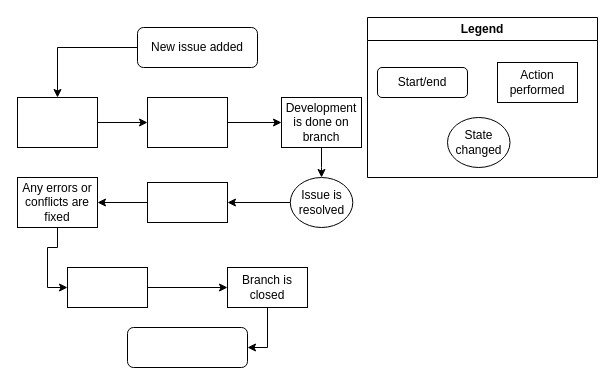
Some shapes in this 615 by 385 pixel diagram are drawn without their labels. The shapes that lost their labels are listed below. From the top down, each one's centre as x and y in pixels, then its label:
At point (57, 122): "Developer is assigned the issue".
At point (187, 122): "A new branch is made from main".
At point (187, 202): "Main is pulled to branch".
At point (107, 287): "Branch is pulled to main".
At point (187, 347): "Issue is moved to done".
